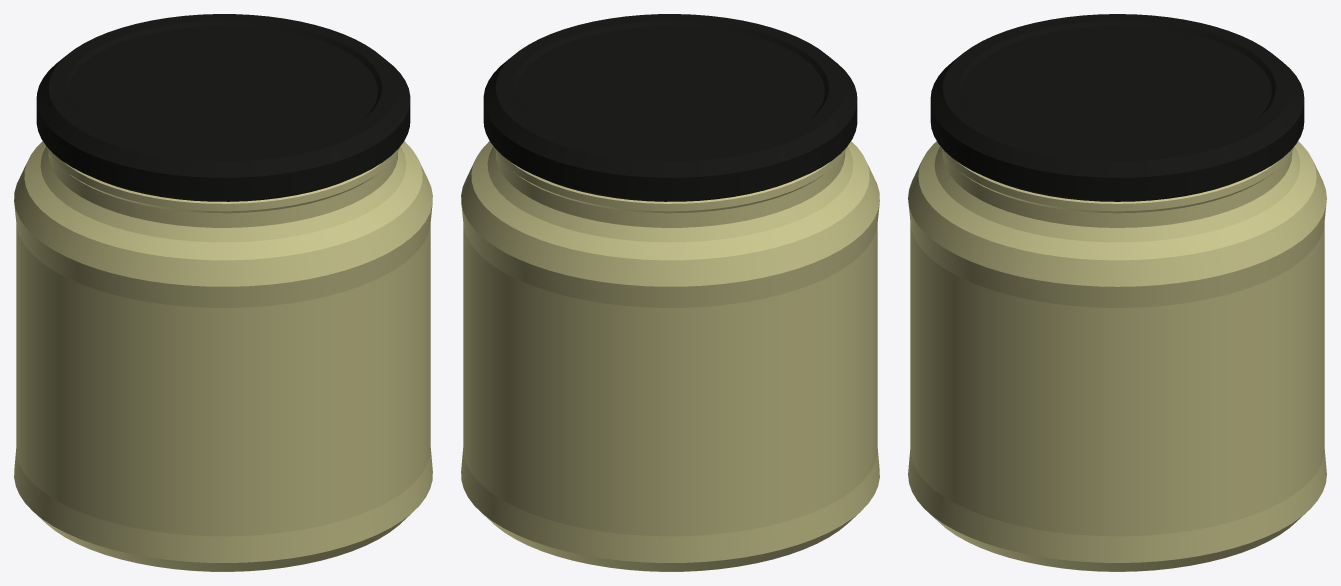
The picture shows the model from 3 angles, left to right: view 1: azimuth 30°, elevation 25°; view 2: azimuth 150°, elevation 25°; view 3: azimuth 270°, elevation 25°; orthographic projection.
Visible parts, largest first — view 1: jar; view 2: jar; view 3: jar.
Boxes of the visible parts, x1,y1,x2,y2 form: jar: [14, 14, 432, 571]; jar: [461, 14, 879, 571]; jar: [908, 14, 1326, 571].
Bounding box in the file's own units: 0.1031 × 0.11 × 0.1031.
